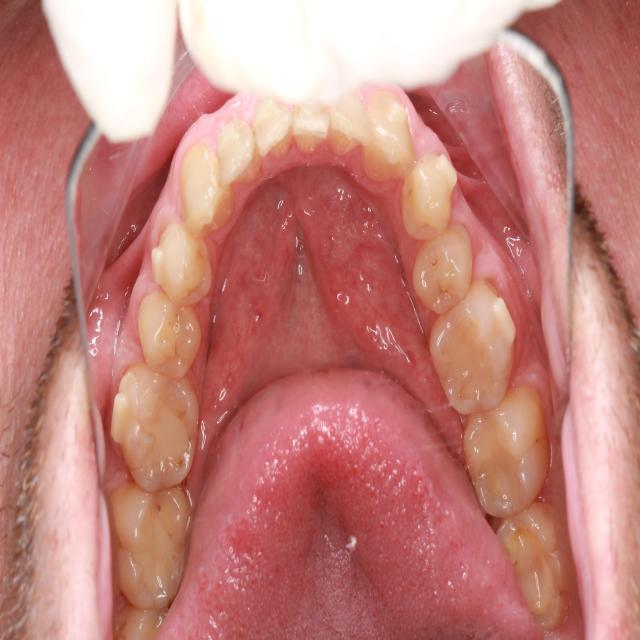tooth: (459, 363, 554, 523), (104, 353, 202, 506), (421, 273, 520, 422), (102, 473, 196, 615), (491, 492, 575, 635), (171, 141, 247, 250), (353, 84, 423, 201), (130, 286, 211, 386), (136, 217, 220, 312), (405, 222, 479, 326), (398, 140, 464, 242), (214, 110, 273, 194), (320, 89, 377, 171), (281, 91, 335, 167), (249, 96, 298, 170), (106, 591, 169, 639)
